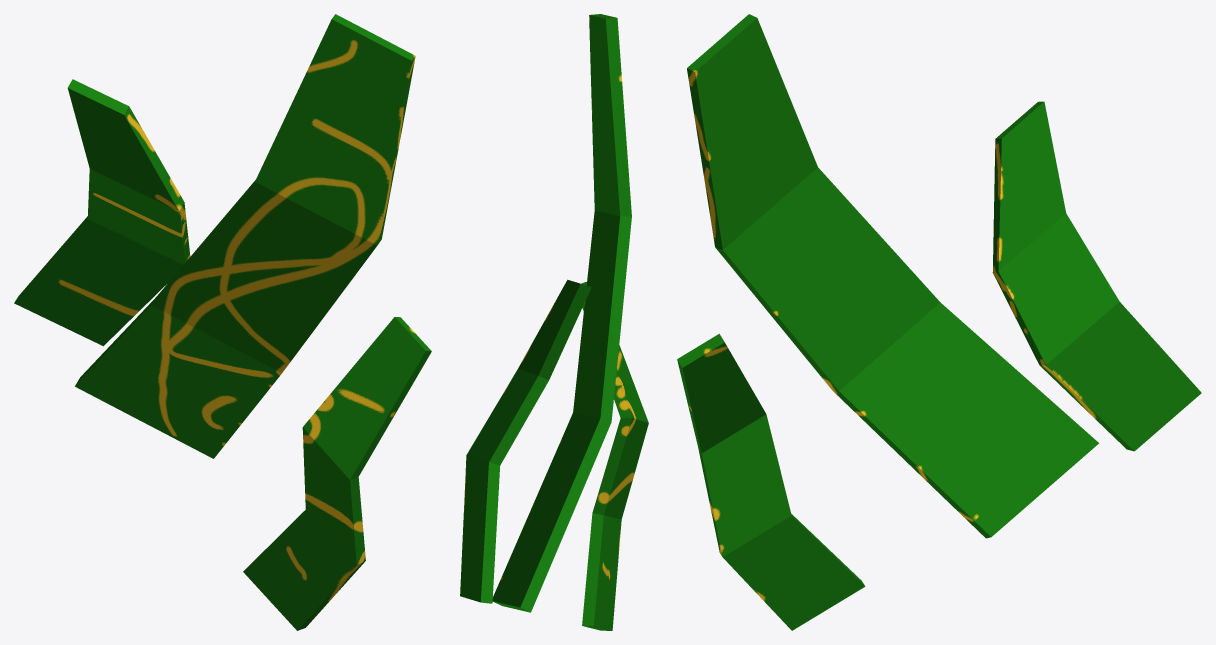
The model's file is Grass_1.fbx.
3 views of the same model, side by side, from view 1: azimuth 30°, elevation 25°; view 2: azimuth 150°, elevation 25°; view 3: azimuth 270°, elevation 25° (orthographic). The views are drawn at different scales.
Visible parts, largest first — view 1: node_id3; view 2: node_id3; view 3: node_id3.
Boxes of the visible parts, x1,y1,x2,y2 form: node_id3: [14, 14, 431, 630]; node_id3: [460, 14, 648, 630]; node_id3: [677, 14, 1201, 630].
Size of the model in its own units: 0.1744 by 0.561 by 0.431.
1 material, 1 textured.
